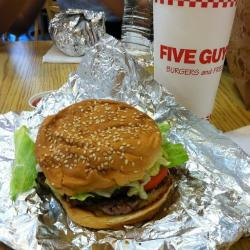burger: (39, 100, 187, 233)
salad: (8, 127, 37, 199)
